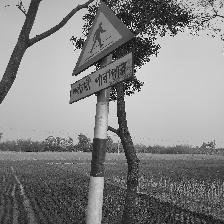Pedestrian-crossing: (68, 2, 137, 111)
